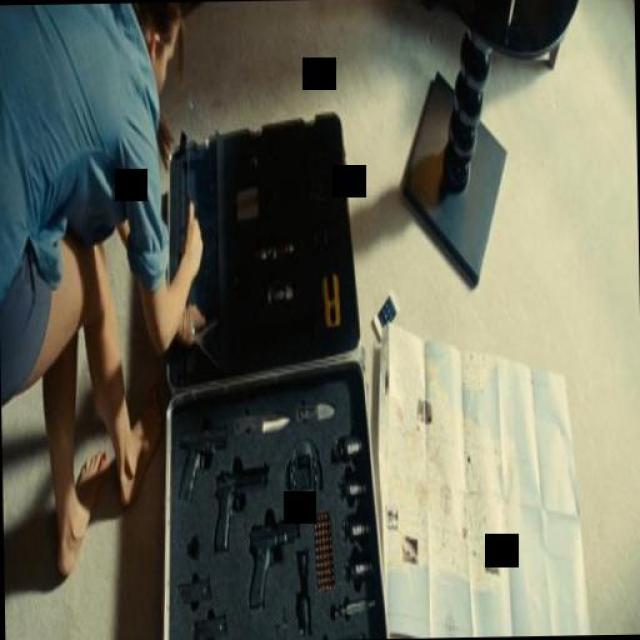gun: (208, 453, 272, 582), (170, 390, 234, 502), (238, 511, 302, 621)
